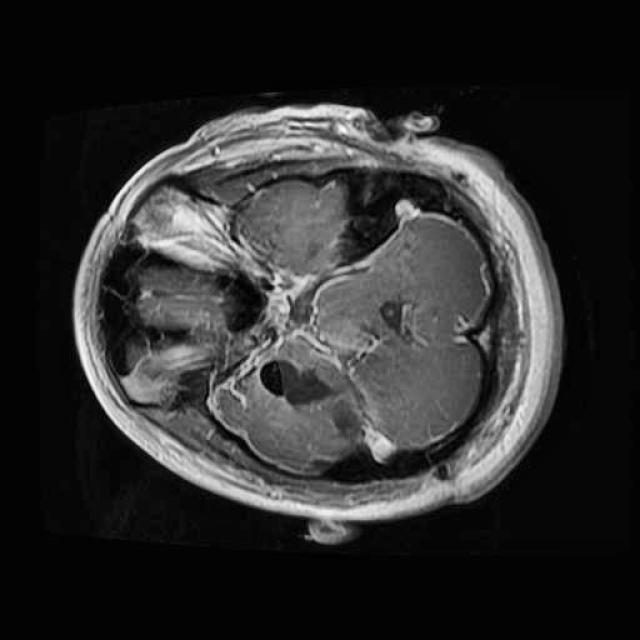Non-Tumor: (250, 345, 349, 422)
